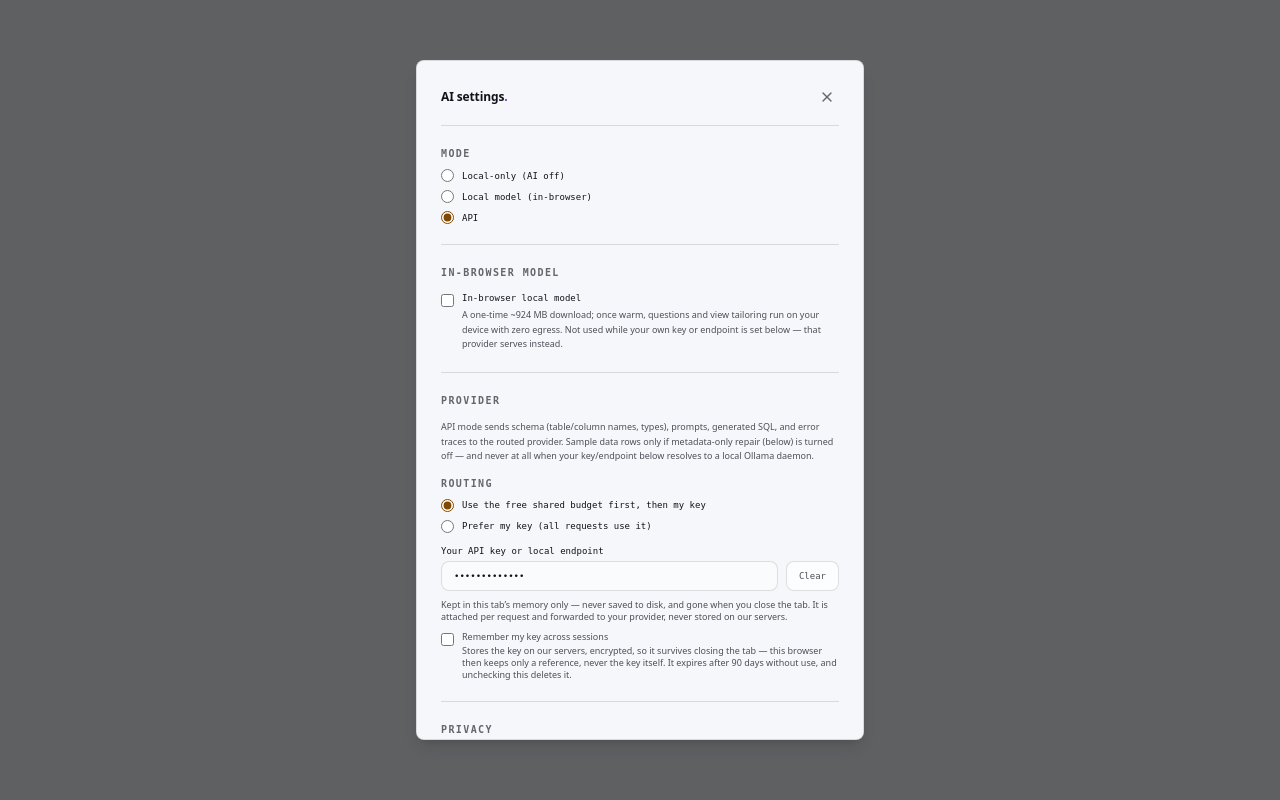
it: AISettingsPanel — "Remember my key" (D9 opt-in vault, 09-edge/03) › says so honestly when the deployment has no vault, leaving the key in-tab
Click the checkbox labelled "Remember my key across sessions": point(448, 639) top-left (441, 633), bottom-right (454, 646)
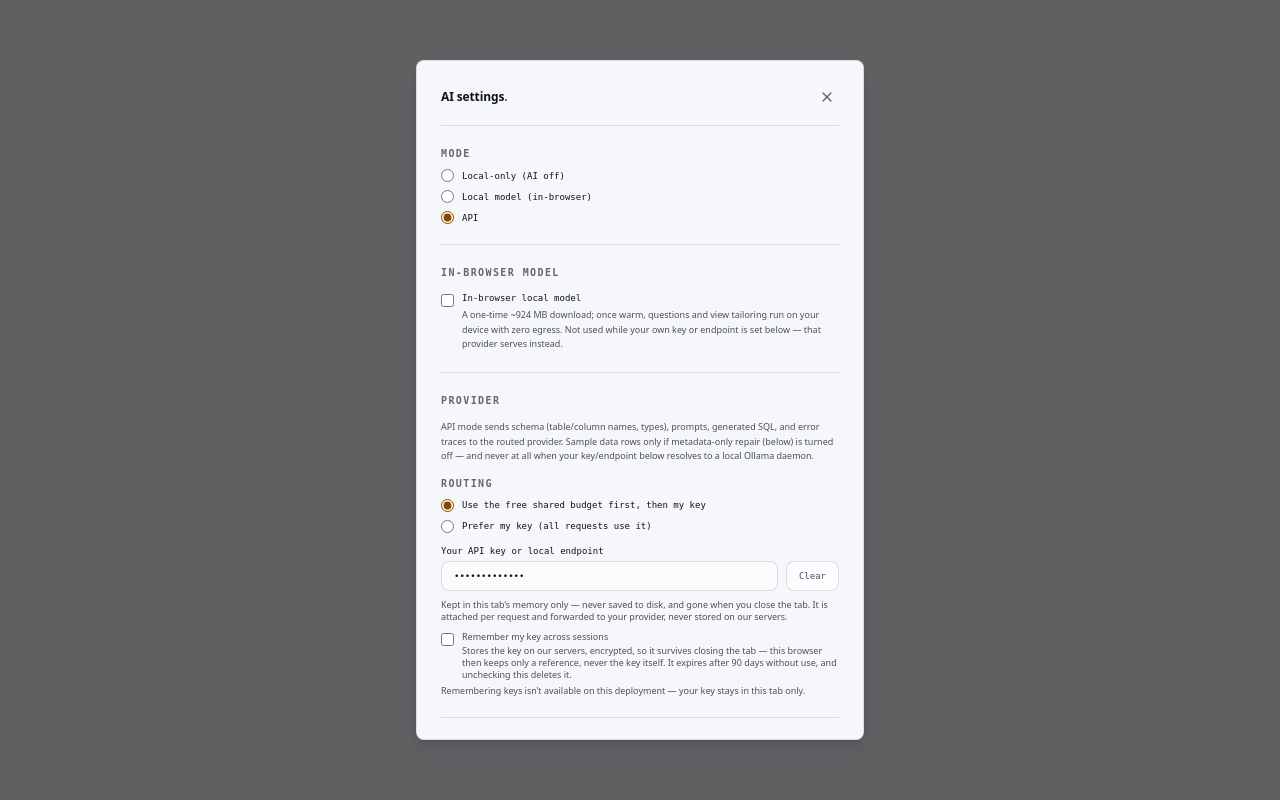
expect the text "isn’t available on this deployment" is shown: met, box top-left (441, 684), bottom-right (805, 697)
